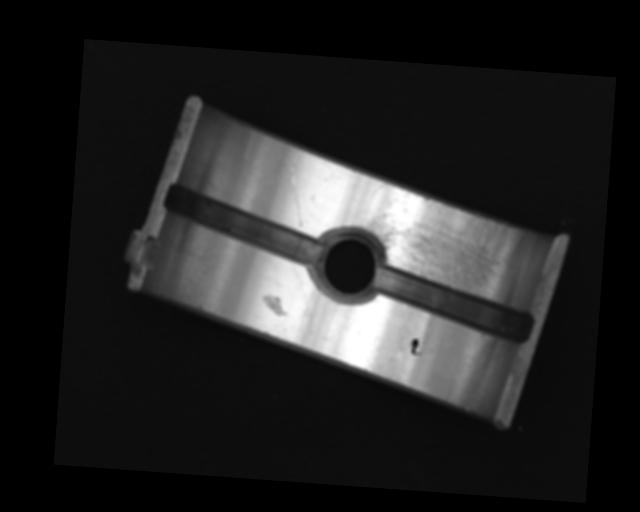blot: (409, 337, 423, 356)
bruise: (260, 292, 288, 316)
gap: (160, 184, 325, 267), (371, 263, 536, 344)
hole: (314, 227, 387, 306)
nick: (286, 168, 306, 226)
scratch: (355, 182, 525, 307)
